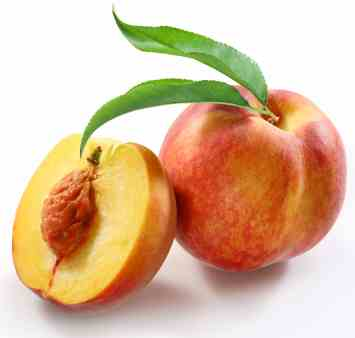peach: (167, 88, 348, 273), (14, 140, 170, 305)
